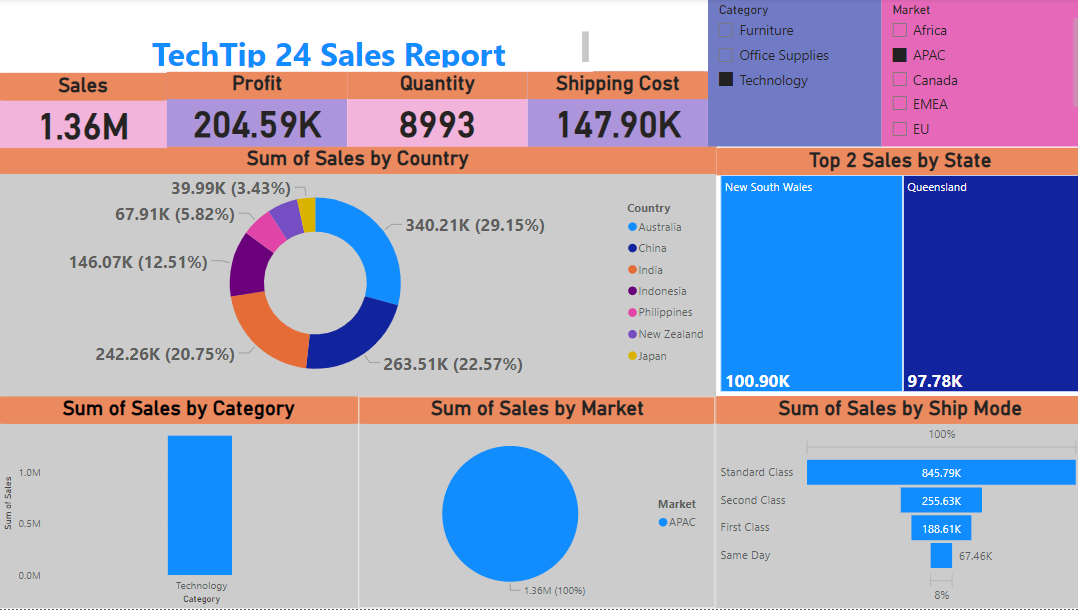

What the dashboard file says about the page in this screenshot:
{"tool":"powerbi","page":{"name":"Page 1","canvas":[1280,720],"ordinal":0},"visuals":[{"type":"columnChart","fields":{"Category":["Orders.Category"],"Y":["Sum(Orders.Sales)"]},"box":[0,469.6,423.8,250.3],"z":0},{"type":"pieChart","fields":{"Category":["Orders.Market"],"Y":["Sum(Orders.Sales)"]},"box":[423.8,469.6,422.1,250.3],"z":1000},{"type":"funnel","fields":{"Category":["Orders.Ship Mode"],"Y":["Sum(Orders.Sales)"]},"box":[845.9,469.6,433.6,250.3],"z":2000},{"type":"donutChart","fields":{"Category":["Orders.Country"],"Y":["Sum(Orders.Sales)"]},"box":[0,175.1,845.9,294.5],"z":3000},{"type":"treemap","title":"Top 2 Sales by State","fields":{"Group":["Orders.State"],"Values":["Sum(Orders.Sales)"]},"box":[845.9,176.7,433.6,292.9],"z":4000},{"type":"card","title":"Sales","fields":{"Values":["Sum(Orders.Sales)"]},"box":[0,88.4,198,88.4],"z":5000},{"type":"card","title":"Profit","fields":{"Values":["Sum(Orders.Profit)"]},"box":[198,86.7,212.7,88.4],"z":6000},{"type":"card","title":"Quantity","fields":{"Values":["Sum(Orders.Quantity)"]},"box":[410.7,86.7,212.7,88.4],"z":7000},{"type":"card","title":"Shipping Cost","fields":{"Values":["Sum(Orders.Shipping Cost)"]},"box":[623.4,86.7,212.7,88.4],"z":8000},{"type":"slicer","fields":{"Values":["Orders.Category"]},"box":[836.1,0,204.5,175.1],"z":9000},{"type":"slicer","fields":{"Values":["Orders.Market"]},"box":[1041,0,239,175],"z":10000},{"type":"textbox","box":[85.1,34.4,615.2,52.4],"z":11000}]}

Visuals, with their boxes in screenshot pixels (x1, y1, x2, y2), scaled from the page's 1280x720 canvas onto the 1078x610 screenshot:
columnChart - Orders.Category x Sum(Orders.Sales): <box>0,398,357,609</box>
pieChart - Orders.Market x Sum(Orders.Sales): <box>357,398,712,609</box>
funnel - Orders.Ship Mode x Sum(Orders.Sales): <box>712,398,1077,609</box>
donutChart - Orders.Country x Sum(Orders.Sales): <box>0,148,712,398</box>
"Top 2 Sales by State" treemap: <box>712,150,1077,398</box>
"Sales" card: <box>0,75,167,150</box>
"Profit" card: <box>167,73,346,148</box>
"Quantity" card: <box>346,73,525,148</box>
"Shipping Cost" card: <box>525,73,704,148</box>
slicer - Orders.Category: <box>704,0,876,148</box>
slicer - Orders.Market: <box>877,0,1077,148</box>
textbox: <box>72,29,590,74</box>
